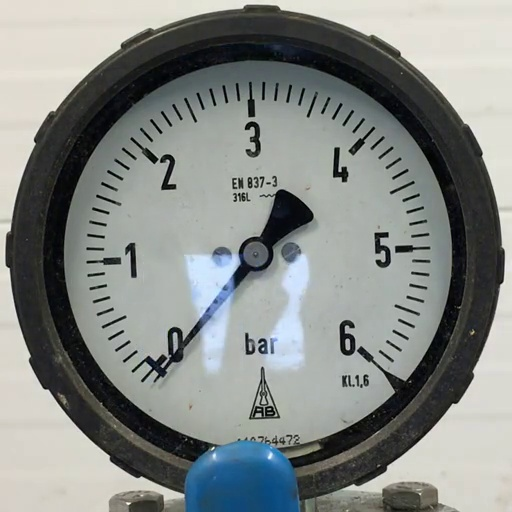base: (237, 235, 276, 273)
circle_plate: (60, 55, 469, 454)
maximum: (357, 345, 374, 362)
minimum: (140, 353, 168, 383)
number: (238, 116, 265, 161), (370, 226, 396, 272), (153, 150, 180, 194), (326, 143, 352, 185), (119, 239, 140, 283), (164, 323, 186, 365), (337, 316, 359, 357)
tip: (151, 378, 159, 385)
